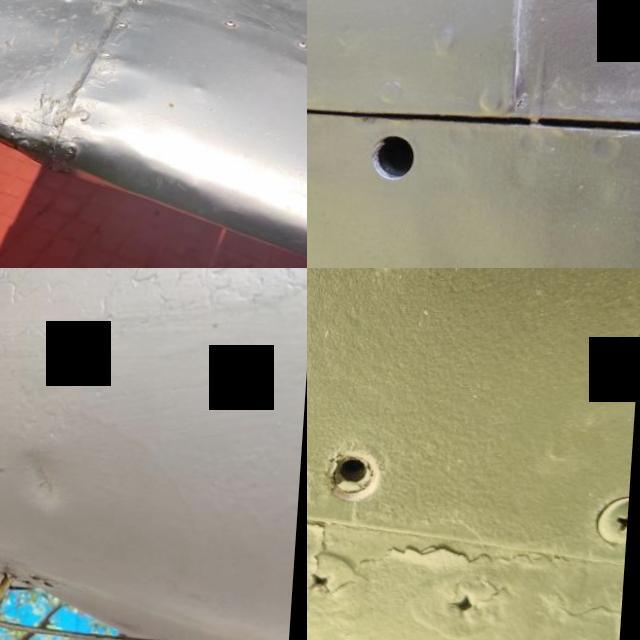Dent: (0, 0, 80, 127), (0, 428, 97, 523)
Missing_Fastener: (336, 80, 462, 222), (307, 400, 429, 544)
